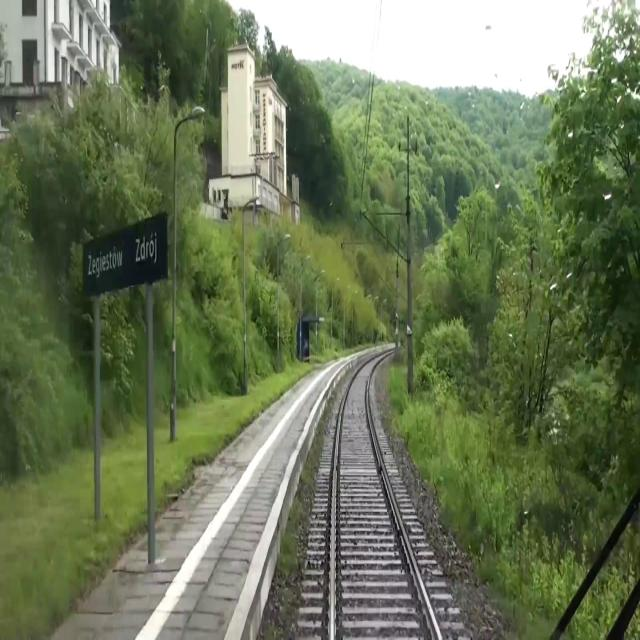rail-track: (335, 359, 437, 639)
